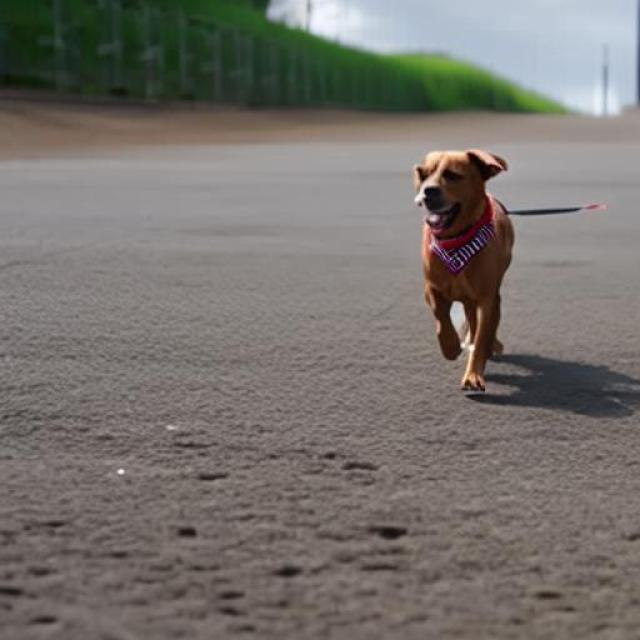Dog: (413, 149, 515, 391)
